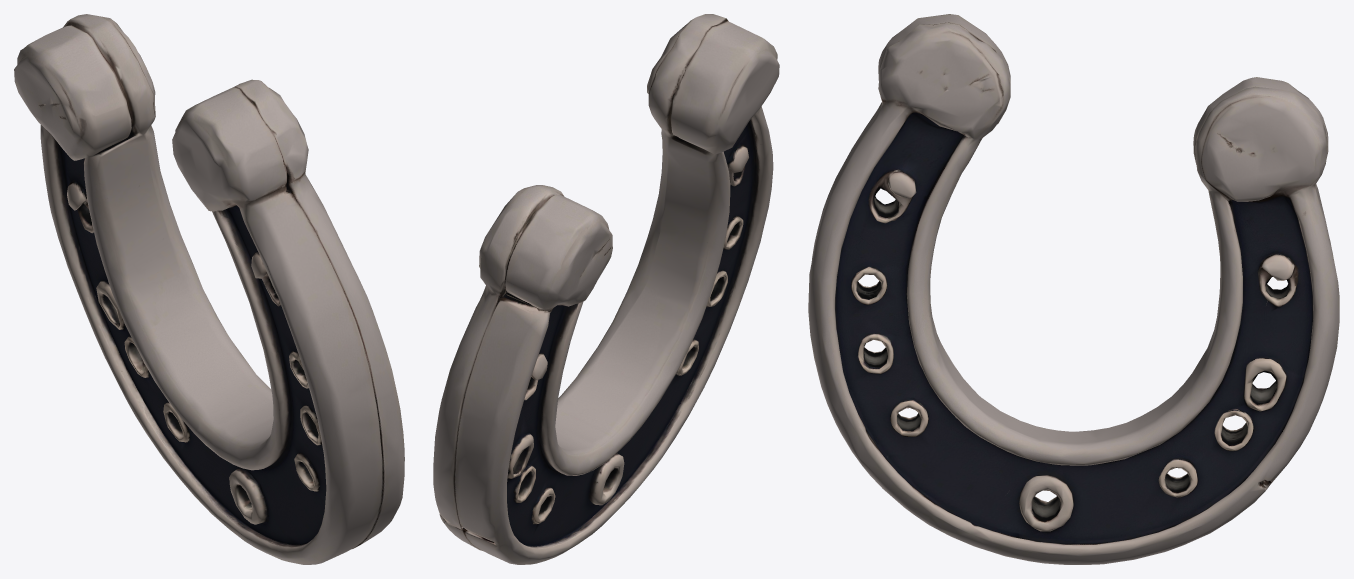
The model's file is lucky+horseshoe+3d+model.glb.
The picture shows the model from 3 angles, left to right: view 1: azimuth 30°, elevation 25°; view 2: azimuth 150°, elevation 25°; view 3: azimuth 270°, elevation 25°; orthographic projection. The views are drawn at different scales.
Visible parts, largest first — view 1: tripo_node_87c1b7b7-1f05-418f-8e6c-3a8dd483d435; view 2: tripo_node_87c1b7b7-1f05-418f-8e6c-3a8dd483d435; view 3: tripo_node_87c1b7b7-1f05-418f-8e6c-3a8dd483d435.
Boxes of the visible parts, x1,y1,x2,y2 form: tripo_node_87c1b7b7-1f05-418f-8e6c-3a8dd483d435: [14, 14, 404, 564]; tripo_node_87c1b7b7-1f05-418f-8e6c-3a8dd483d435: [433, 14, 779, 564]; tripo_node_87c1b7b7-1f05-418f-8e6c-3a8dd483d435: [808, 14, 1339, 564].
Size of the model in its own units: 0.3818 by 0.9812 by 0.9475.
Materials: 1 (1 with a texture image).
